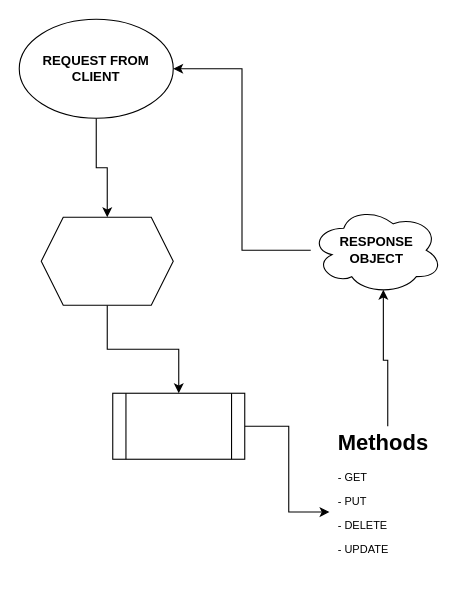
Image size: 462x589. Some labels were removed from this diagram. Here are the shapes that lost their labels. From the top down, the centre of each, then its label:
At (106,260): "SERVER".
At (178,425): "HANDLER".
